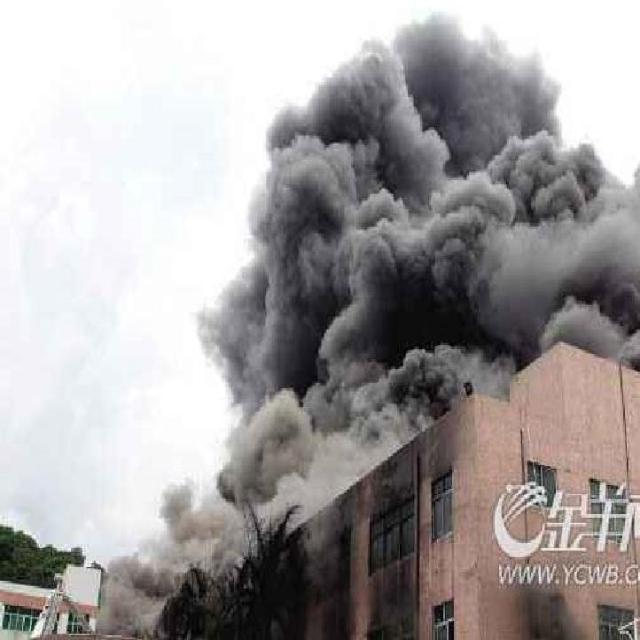Smoke: (95, 12, 640, 640)
